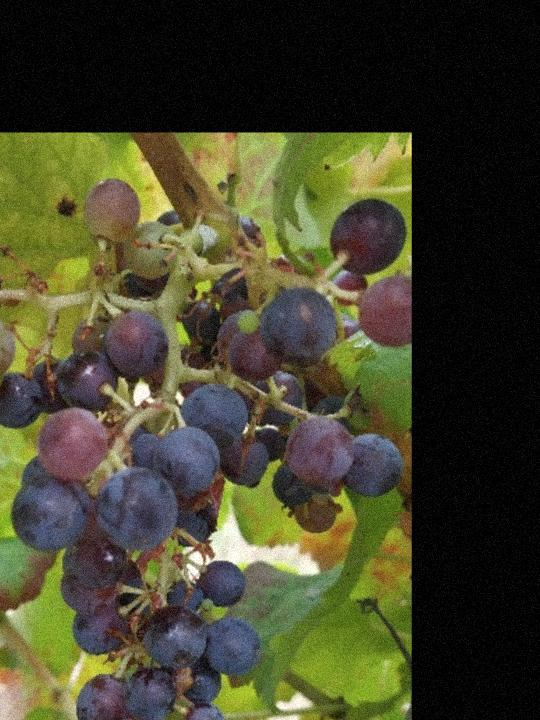grape: (0, 183, 435, 720)
